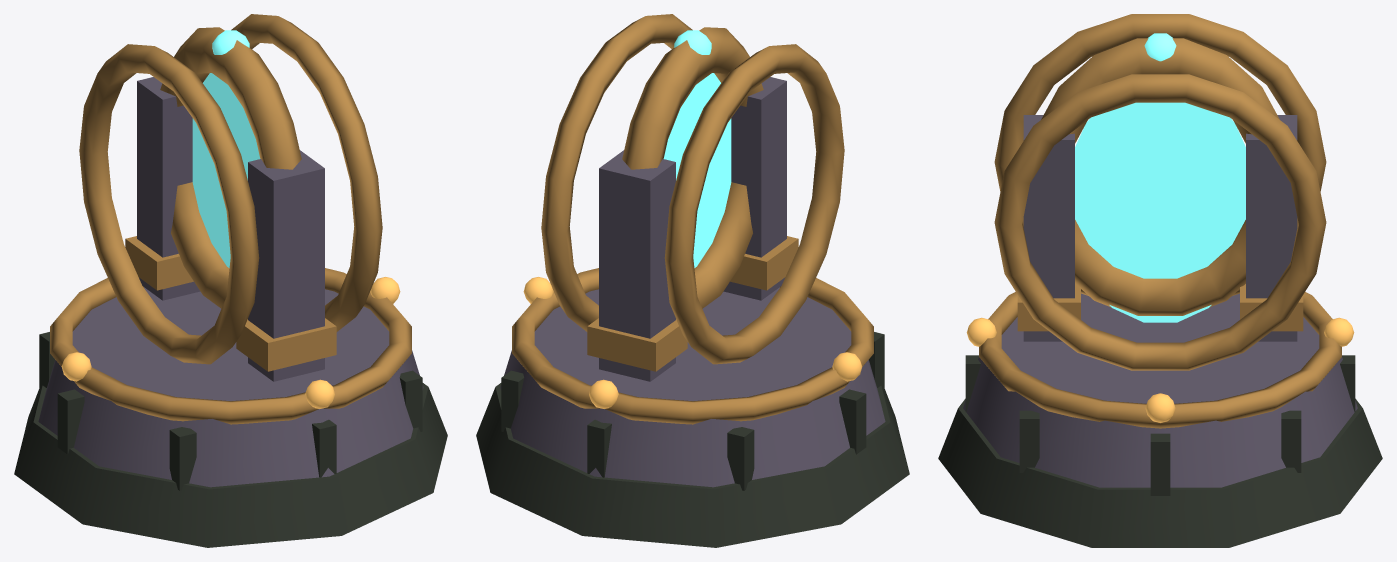
File: tower_portal_portalArch_ultimate.glb
The picture shows the model from 3 angles, left to right: view 1: azimuth 30°, elevation 25°; view 2: azimuth 150°, elevation 25°; view 3: azimuth 270°, elevation 25°; orthographic projection.
Parts seen in each view (by area): view 1: stone_1, foot_0, return_arch_21, arch_pillar_15, rim_2, arch_19, return_arch_22, arch_pillar_17, portal_surface_20, band_16, band_18, mortar_6 (+8 smaller); view 2: stone_1, foot_0, return_arch_21, arch_pillar_17, rim_2, arch_19, return_arch_22, arch_pillar_15, portal_surface_20, band_18, band_16, mortar_8 (+8 smaller); view 3: stone_1, foot_0, portal_surface_20, return_arch_22, arch_19, return_arch_21, rim_2, arch_pillar_15, arch_pillar_17, mortar_3, mortar_4, mortar_10 (+8 smaller).
Part boxes in pixels (x1,y1,x2,y2): stone_1: (38, 287, 423, 487); foot_0: (14, 383, 447, 547); return_arch_21: (79, 44, 259, 364); arch_pillar_15: (248, 150, 324, 381); rim_2: (50, 268, 411, 424); arch_19: (160, 27, 301, 308); return_arch_22: (231, 14, 382, 331); arch_pillar_17: (137, 77, 200, 300); portal_surface_20: (192, 73, 260, 267); band_16: (236, 318, 336, 371); band_18: (125, 236, 193, 290); mortar_6: (169, 427, 196, 490); stone_1: (500, 287, 885, 487); foot_0: (476, 383, 909, 547); return_arch_21: (664, 44, 844, 364); arch_pillar_17: (599, 150, 675, 381); rim_2: (512, 268, 873, 424); arch_19: (622, 27, 763, 308); return_arch_22: (541, 14, 692, 331); arch_pillar_15: (723, 77, 786, 300); portal_surface_20: (663, 73, 731, 267); band_18: (587, 318, 687, 371); band_16: (730, 236, 798, 290); mortar_8: (727, 427, 754, 490); stone_1: (963, 293, 1357, 487); foot_0: (938, 398, 1382, 547); portal_surface_20: (1075, 102, 1245, 322); return_arch_22: (994, 74, 1326, 370); arch_19: (1041, 38, 1279, 315); return_arch_21: (994, 14, 1326, 295); rim_2: (979, 292, 1341, 428); arch_pillar_15: (1023, 115, 1074, 341); arch_pillar_17: (1246, 115, 1297, 341); mortar_3: (1150, 433, 1170, 495); mortar_4: (1019, 410, 1039, 472); mortar_10: (1281, 410, 1301, 472).
Bounding box in the file's own units: 0.5326 × 0.59 × 0.56.
